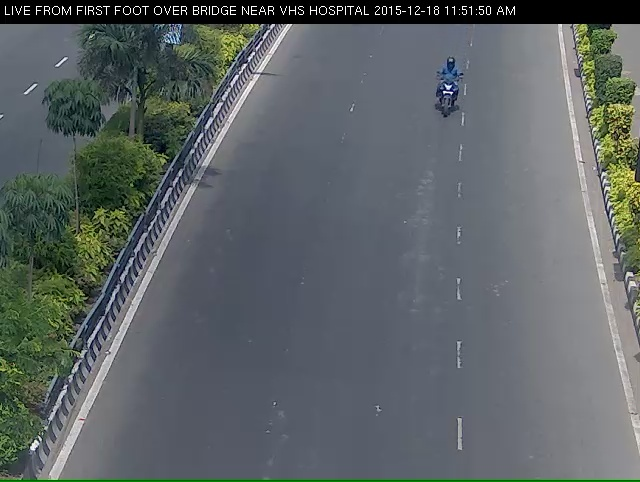Person: (430, 62, 471, 135)
